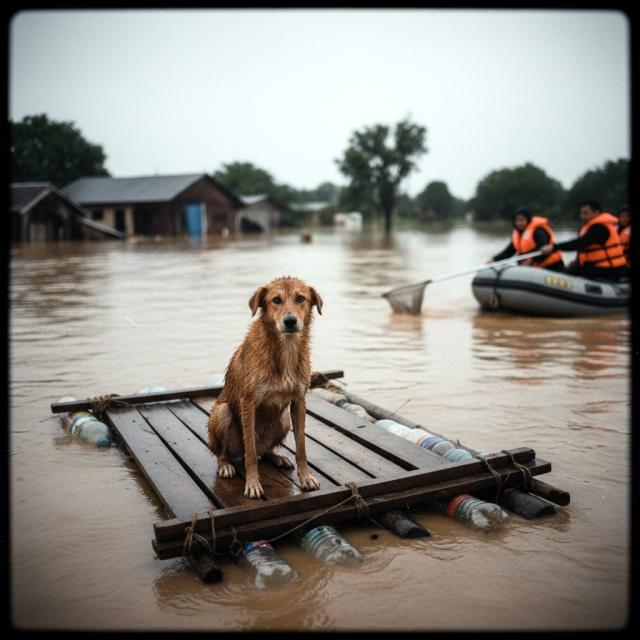dog: (191, 269, 337, 500)
rescuer: (549, 199, 627, 289), (490, 206, 569, 283), (607, 198, 634, 264)
